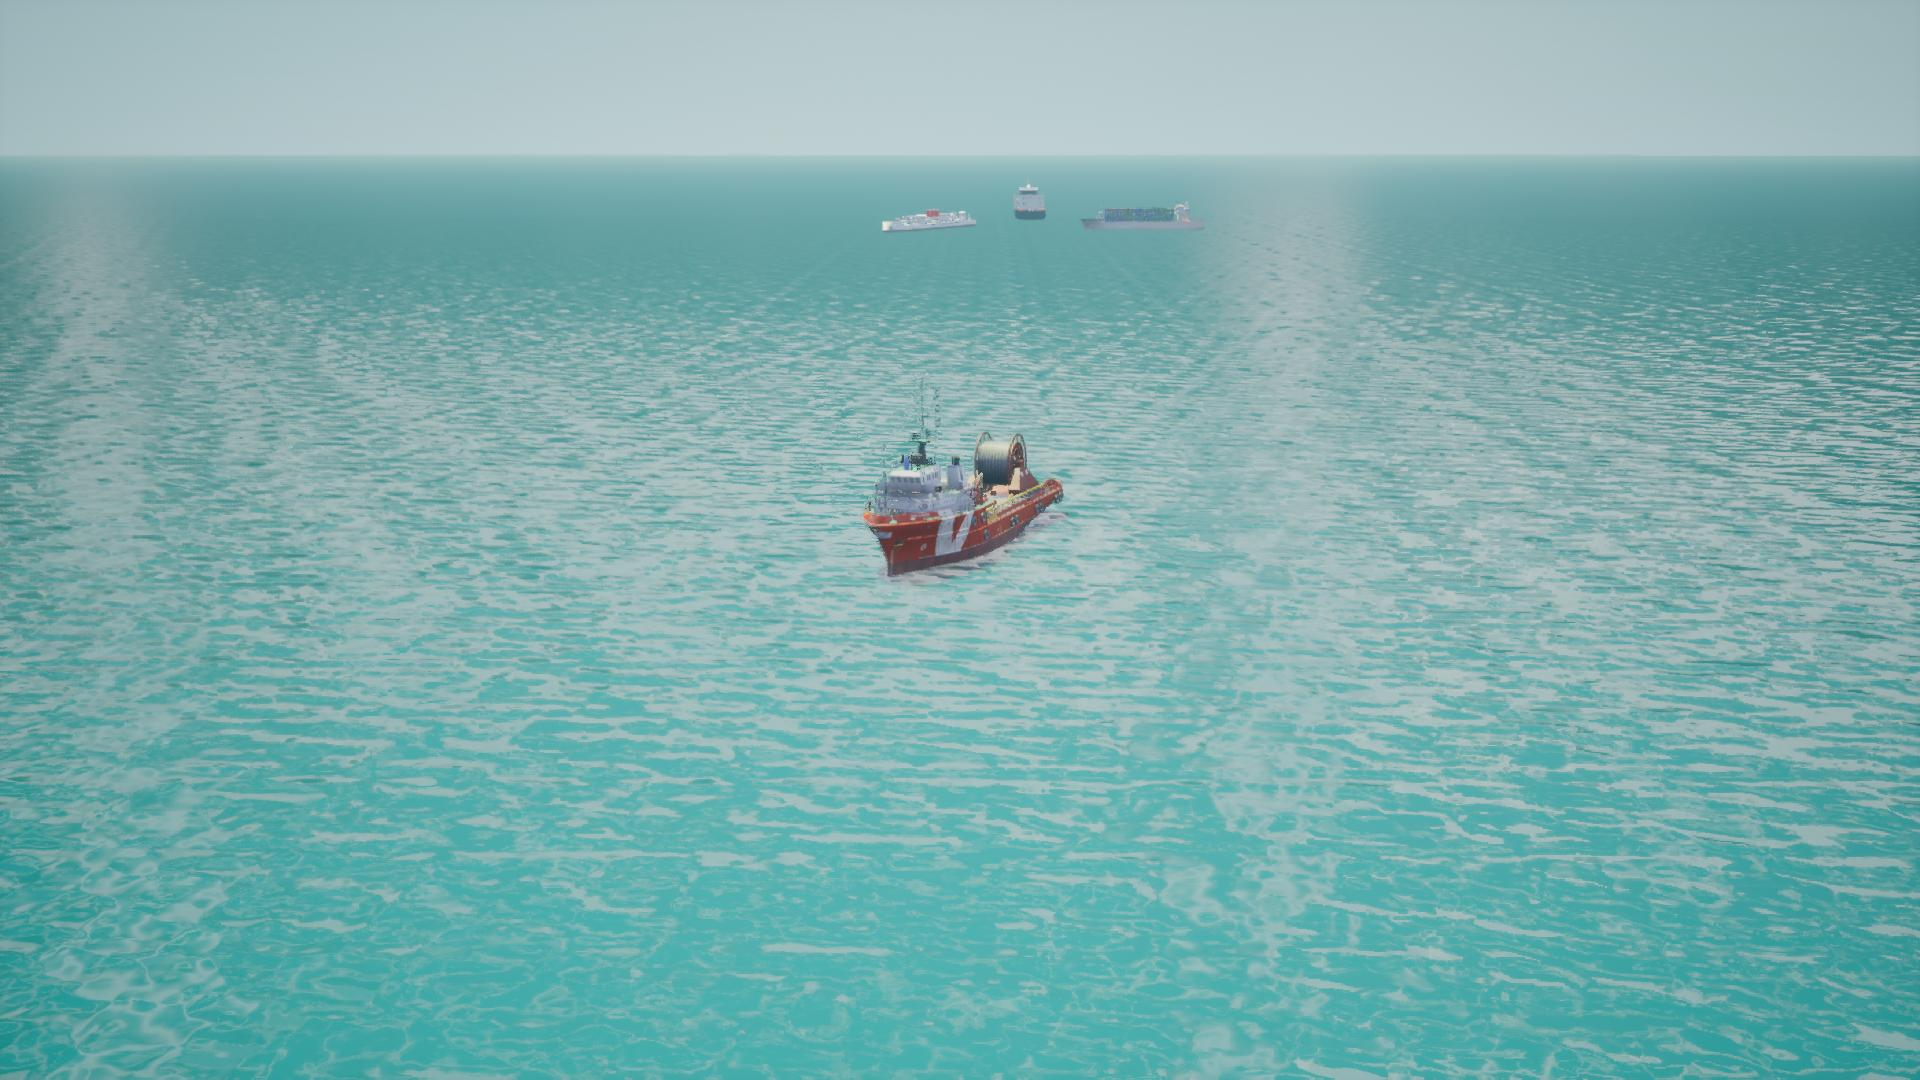Tug Boat: (858, 429, 1058, 579)
